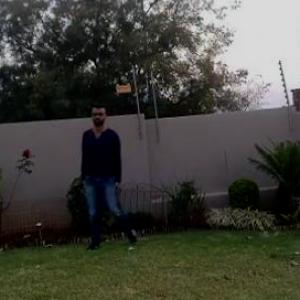follow: (89, 100, 140, 258)
